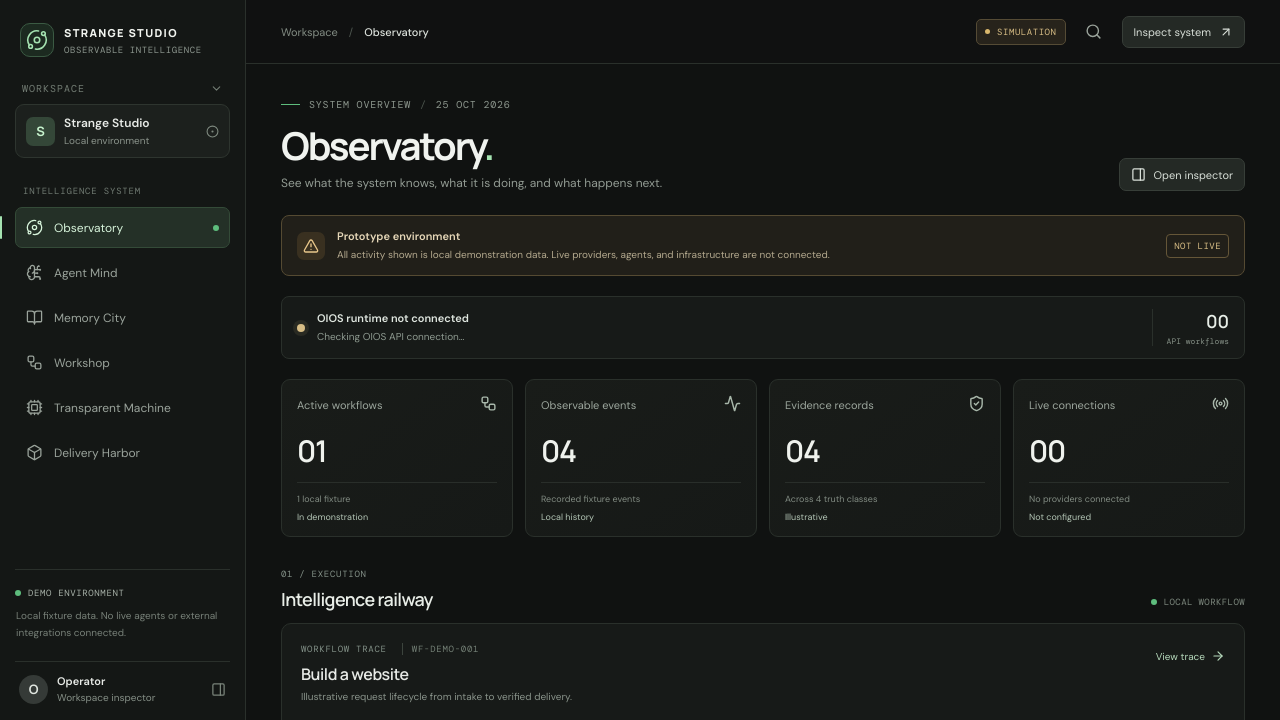
Strange Studio dashboard › allows switching the selected navigation perspective
Click the button "Memory City".
click(122, 318)  # box left=15, top=297, right=230, bottom=338
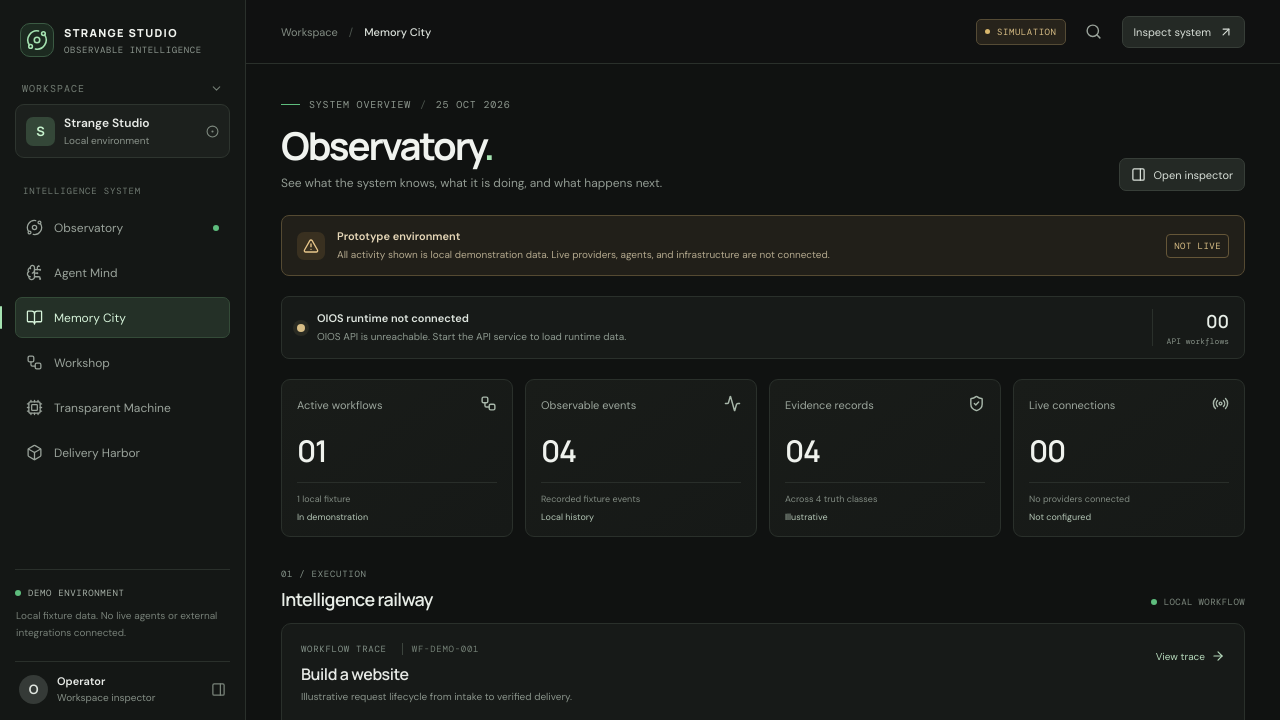
Expected: the 1st text "Memory City" is shown, left=364, top=24, right=431, bottom=38
